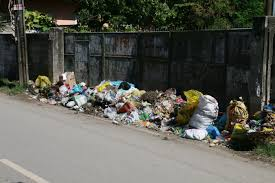garbage: (168, 92, 275, 144), (37, 74, 141, 110), (114, 86, 202, 126)
